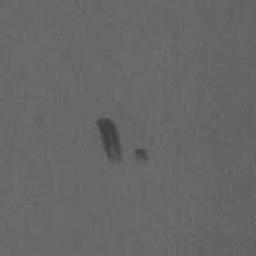Oil spot: (95, 116, 124, 165), (133, 147, 150, 161)
